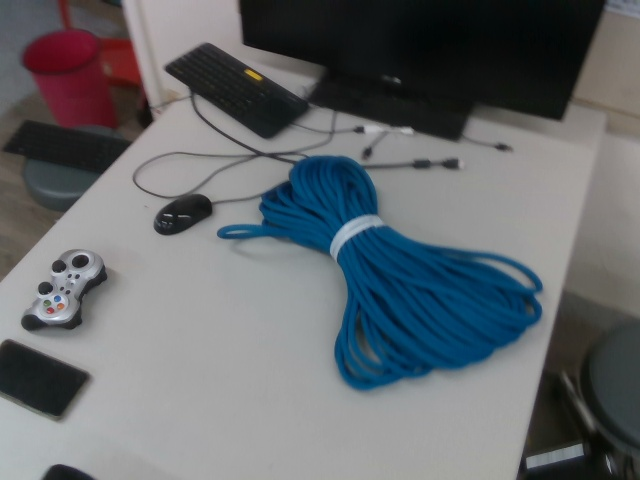rope: (216, 152, 548, 397)
